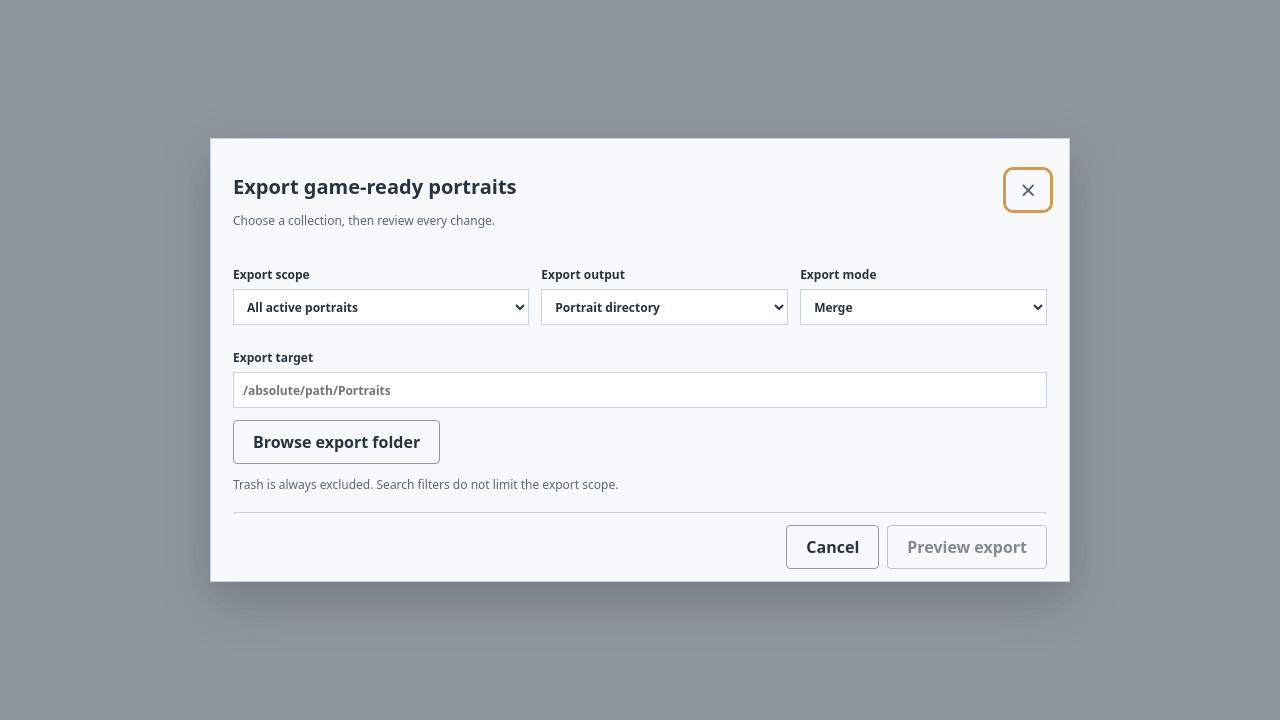
Test: editing scope retires the preview
This screenshot has width=1280, height=720.
Type "/tmp/Portraits" into the field labelled "Export target".
click(640, 390); type("/tmp/Portraits")  # box x1=233 y1=372 x2=1047 y2=408
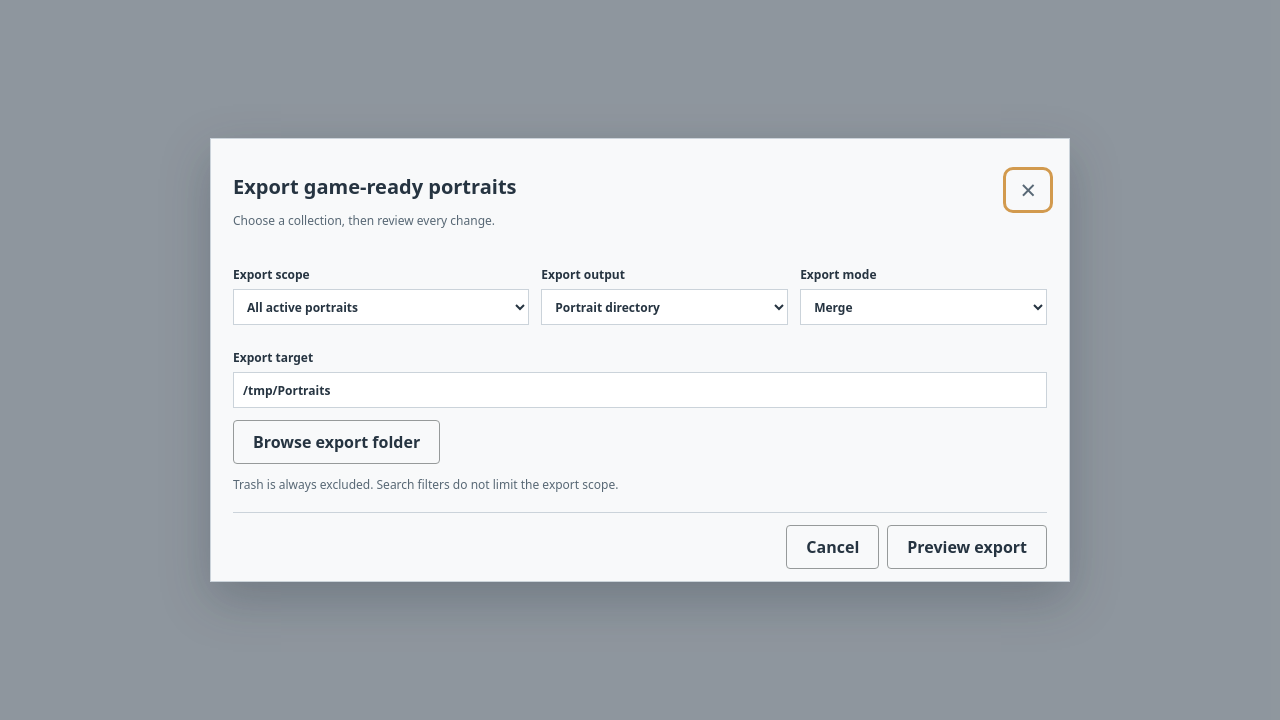
Click the button "Preview export".
click(967, 547)  # box x1=887 y1=525 x2=1047 y2=569
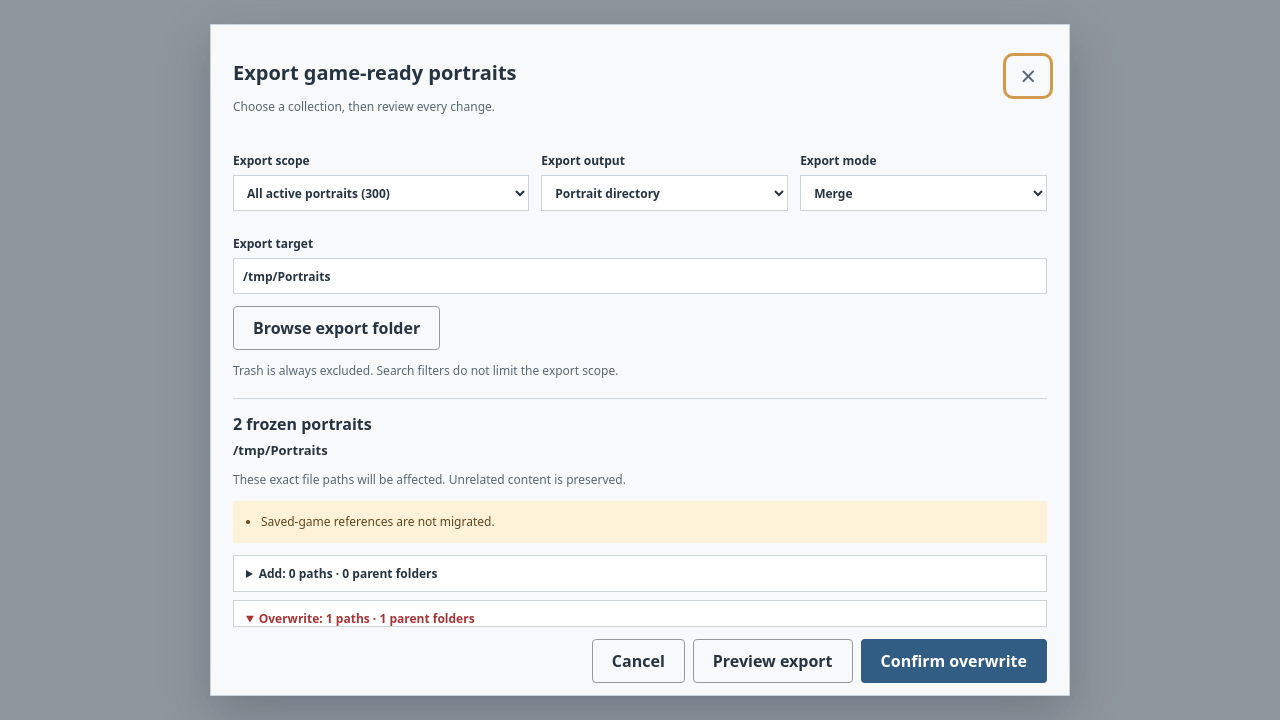
Check: the heading "2 frozen portraits" is shown, box x1=233 y1=413 x2=372 y2=435
Select "Persisted selection (2)" in the dropdown labelled "Export scope" at (381, 193), box x1=233 y1=175 x2=529 y2=211
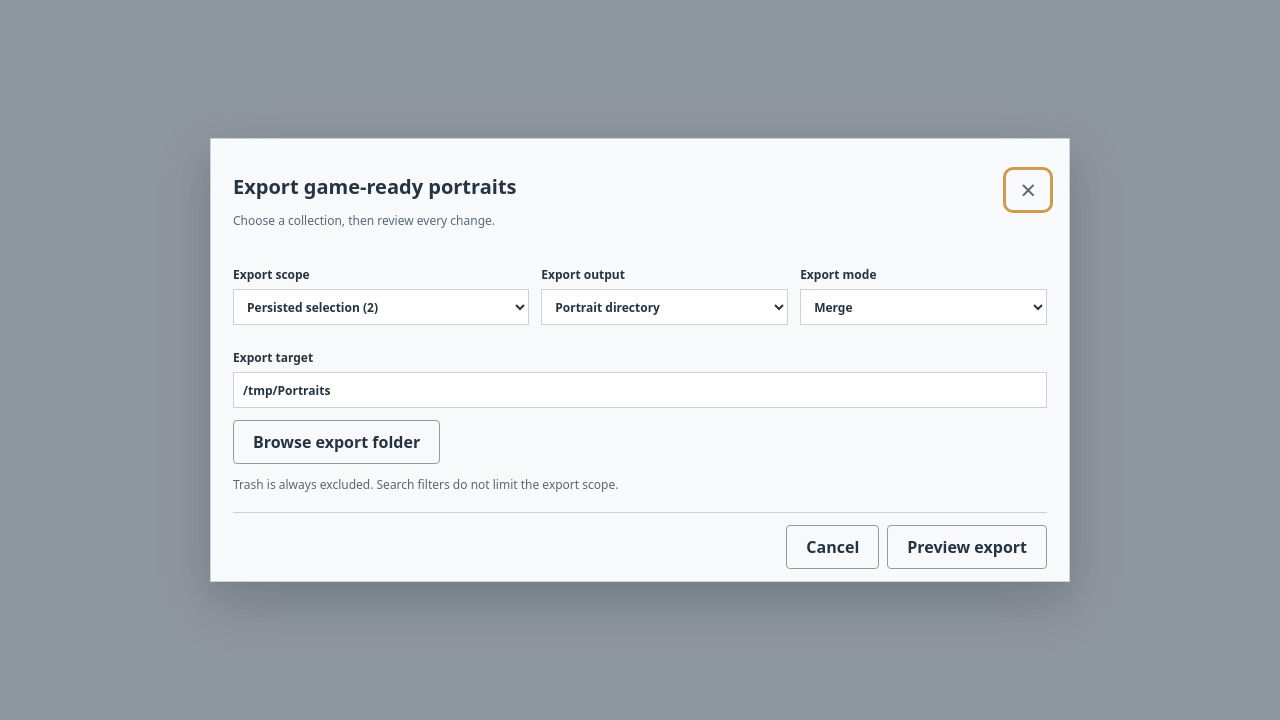
Check: the heading "2 frozen portraits" is gone
